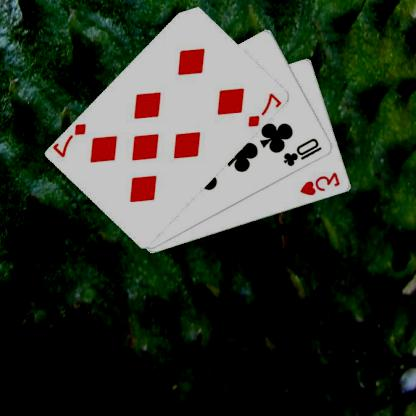10C: (283, 135, 325, 168)
3H: (300, 170, 344, 197)
7D: (247, 90, 284, 128), (54, 121, 90, 159)
